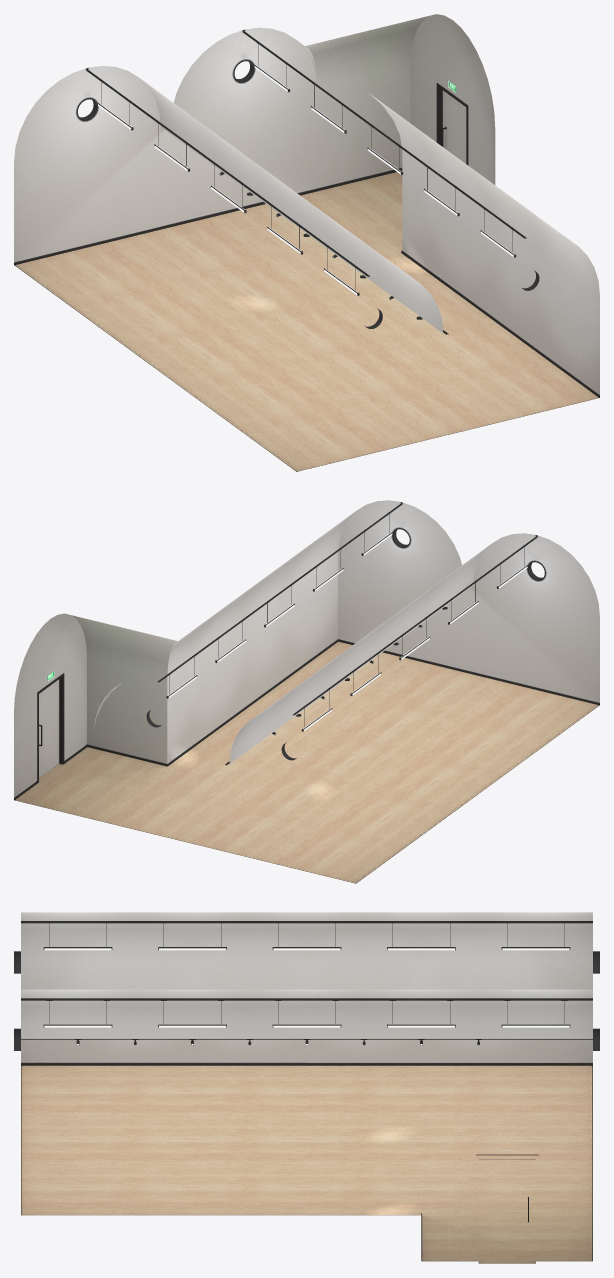
File: vr_gallery.glb
The picture shows the model from 3 angles, top to bottom: view 1: azimuth 30°, elevation 25°; view 2: azimuth 150°, elevation 25°; view 3: azimuth 270°, elevation 25°; orthographic projection. The views are drawn at different scales.
Parts seen in each view (by area): view 1: Room.001; view 2: Room.001; view 3: Room.001.
Boxes of the visible parts, x1=… form: Room.001: x1=14, y1=14, x2=599, y2=471; Room.001: x1=14, y1=500, x2=599, y2=883; Room.001: x1=14, y1=912, x2=599, y2=1263.
Bounding box in the file's own units: 8.2 × 3.5 × 10.24.
Materials: 1 (1 with a texture image).
